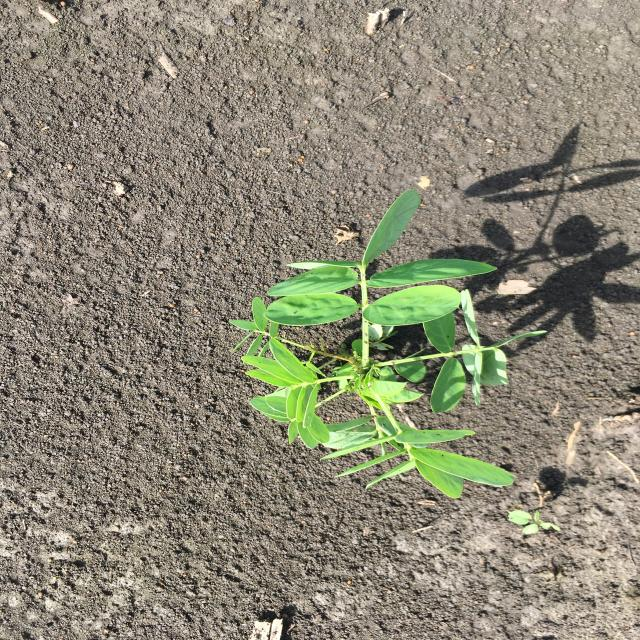Sicklepod: (226, 188, 552, 502)
